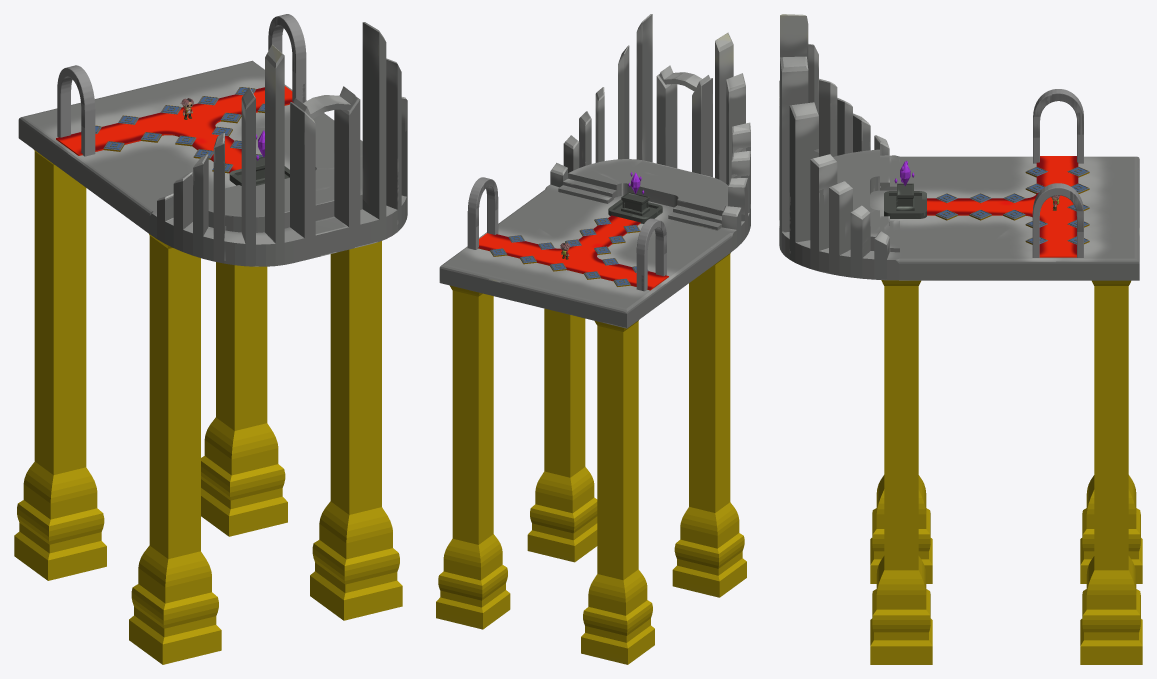
3 renders of one model, left to right at view 1: azimuth 30°, elevation 25°; view 2: azimuth 150°, elevation 25°; view 3: azimuth 270°, elevation 25°, orthographic. The views are drawn at different scales.
Visible parts, largest first — view 1: Cube, Cube.007, Cube.008, Cube.006, Cube.005, Cube.004, Cube.003, Cube.002; view 2: Cube, Cube.007, Cube.005, Cube.008, Cube.006, Cube.004, Cube.003, Cube.002, Cube.001; view 3: Cube, Cube.005, Cube.006, Cube.004, Cube.008, Cube.007, Cube.002, Cube.003, Cube.001.
Boxes of the visible parts, x1,y1,x2,y2 form: Cube: (18, 22, 407, 266); Cube.007: (14, 150, 106, 580); Cube.008: (129, 234, 221, 664); Cube.006: (310, 241, 402, 620); Cube.005: (201, 262, 287, 536); Cube.004: (56, 86, 293, 173); Cube.003: (57, 65, 95, 156); Cube.002: (268, 14, 306, 103); Cube: (439, 14, 750, 328); Cube.007: (581, 320, 654, 664); Cube.005: (436, 285, 510, 629); Cube.008: (672, 253, 746, 597); Cube.006: (527, 308, 597, 562); Cube.004: (478, 215, 668, 290); Cube.003: (636, 218, 666, 291); Cube.002: (467, 177, 498, 249); Cube.001: (608, 192, 662, 223); Cube: (779, 14, 1139, 280); Cube.005: (1080, 280, 1142, 664); Cube.006: (870, 280, 932, 664); Cube.004: (927, 156, 1078, 257); Cube.008: (870, 475, 932, 583); Cube.007: (1080, 475, 1142, 583); Cube.002: (1032, 183, 1083, 257); Cube.003: (1033, 89, 1083, 163); Cube.001: (884, 183, 926, 218).
Size of the model in its own units: 4504 by 11283 by 6452.
